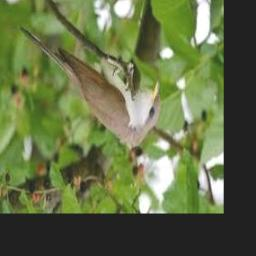Cuckoo: (20, 27, 159, 148)
